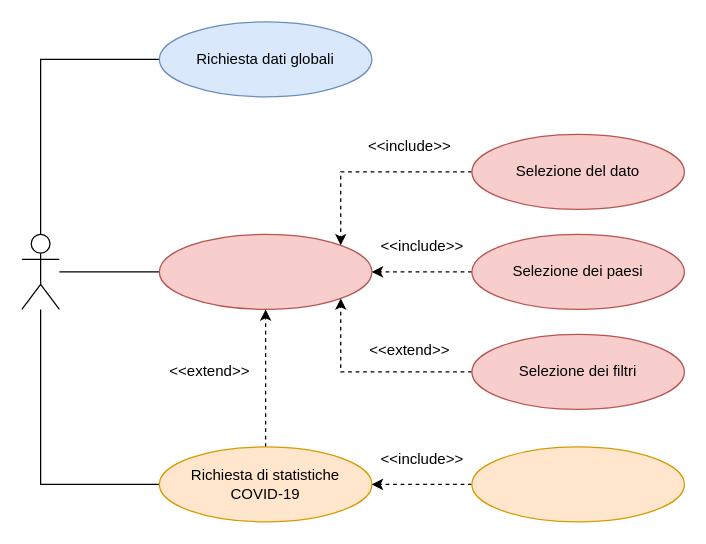
Some shapes in this 706 by 544 pixel diagram are drawn without their labels. The shapes that lost their labels are listed below. From the top down, each one's centre as x and y in pixels, then its label:
At (x=265, y=271): "Richiesta di dati COVID-19".
At (x=577, y=484): "Selezione statistiche".
